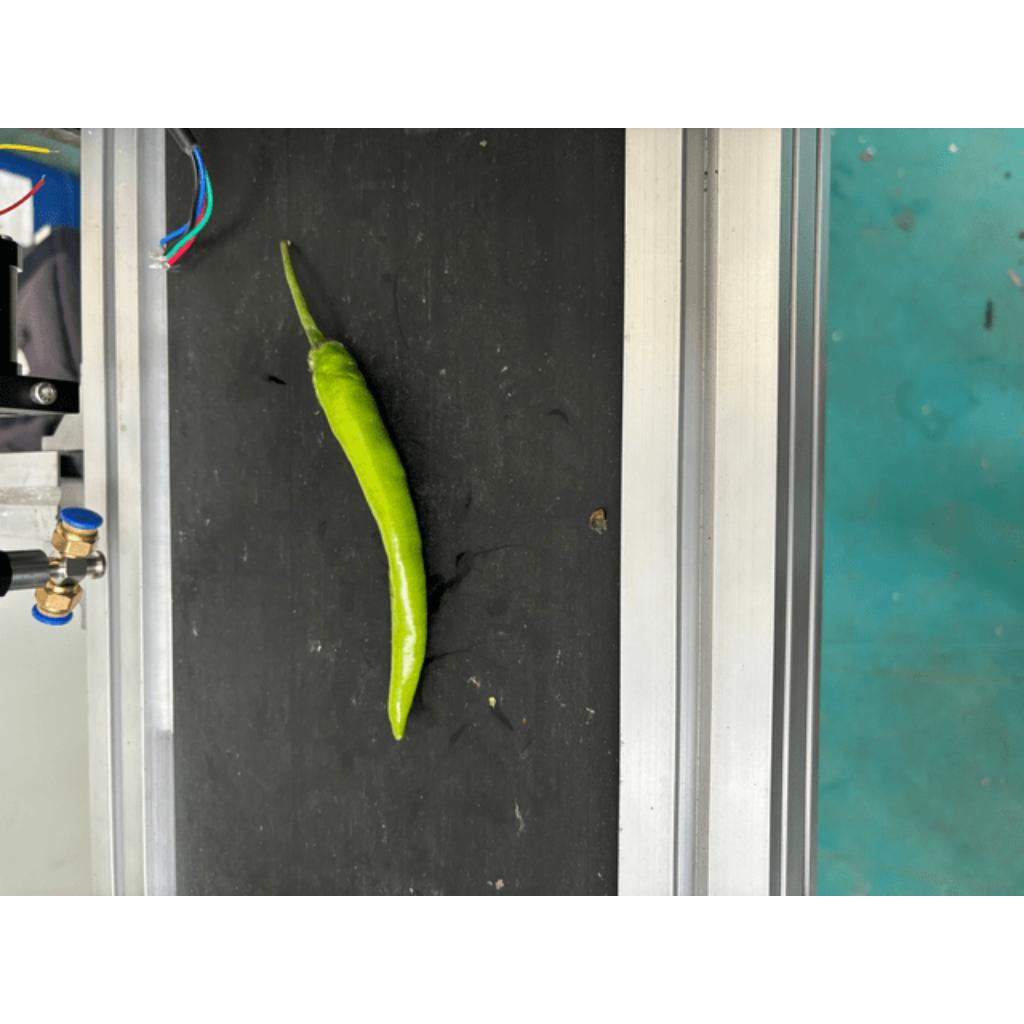chili: (303, 335, 436, 742)
